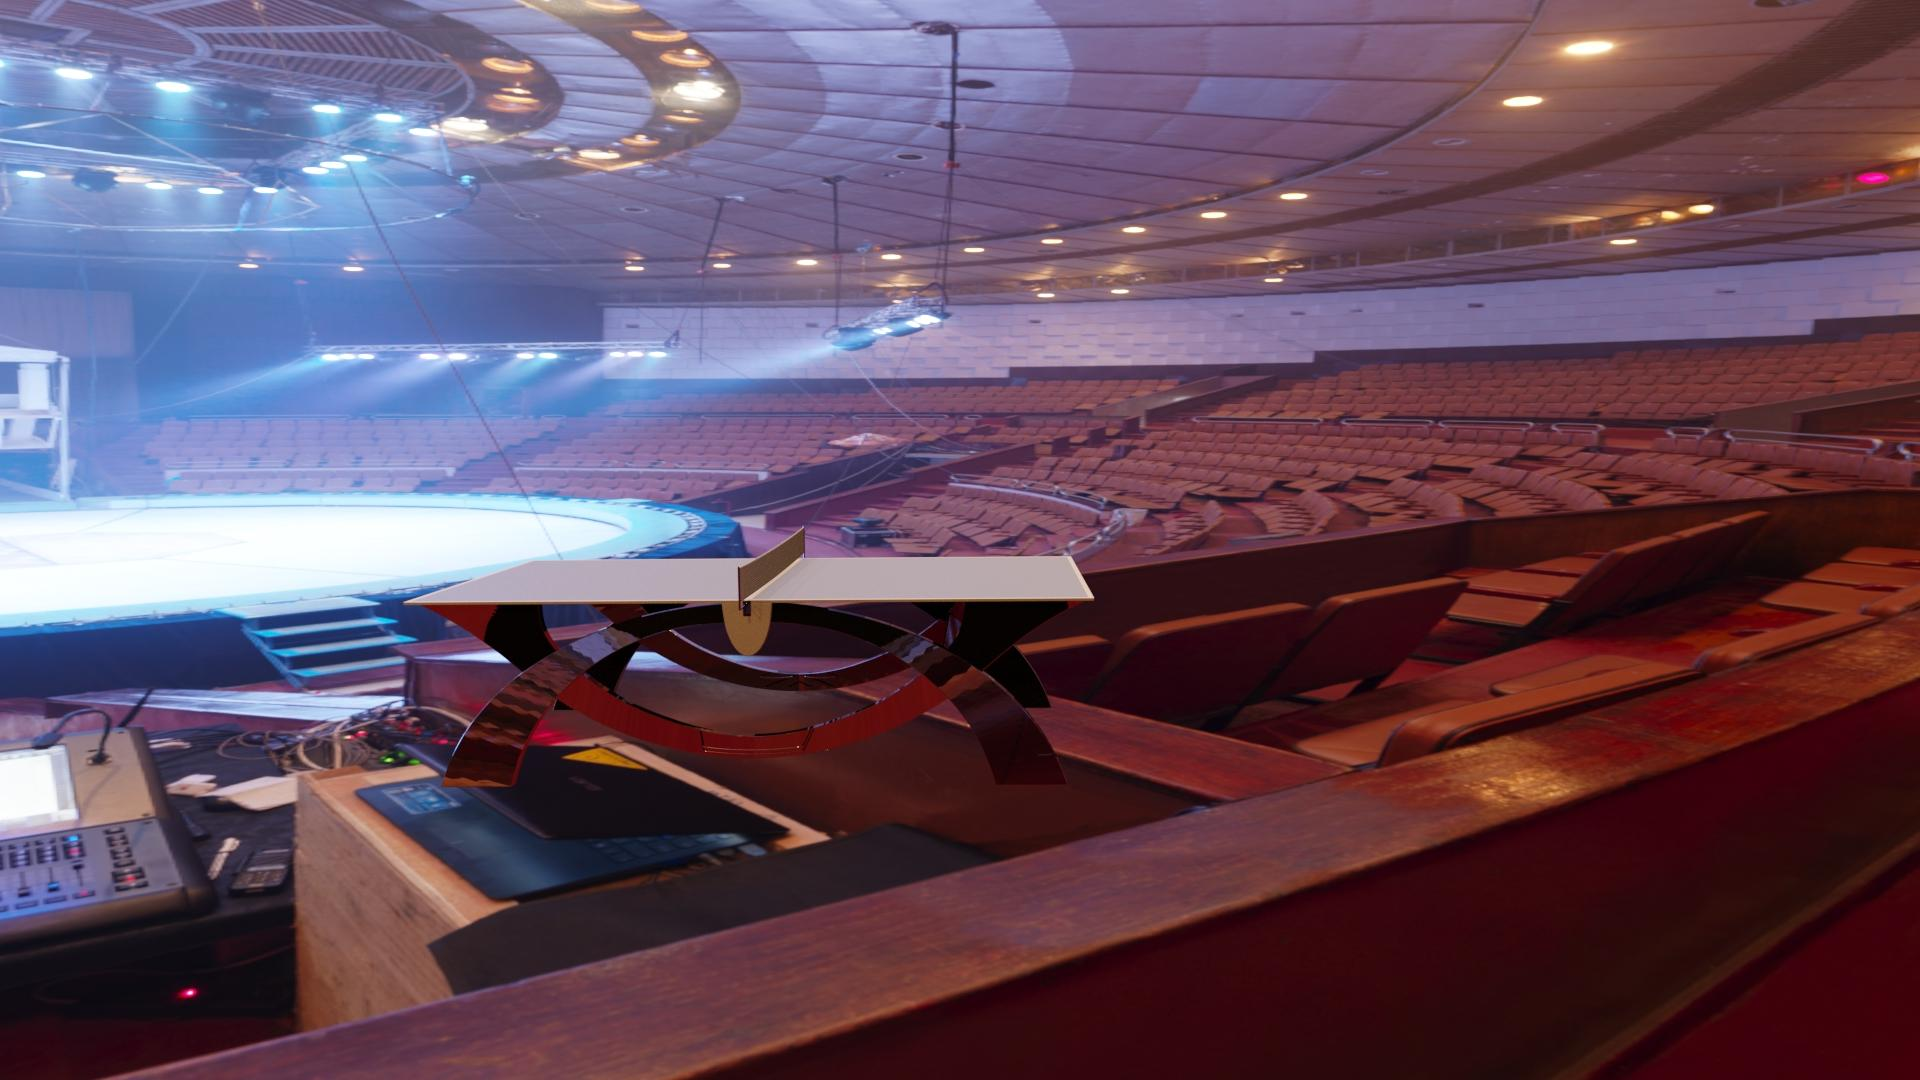table: (410, 556, 1089, 601)
